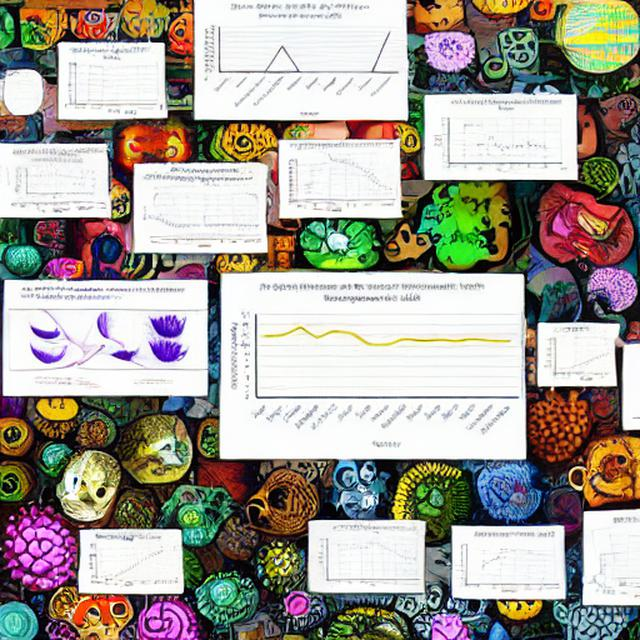Graph: (223, 276, 518, 454), (199, 0, 402, 118), (431, 98, 567, 178), (313, 526, 422, 591), (87, 535, 170, 589), (19, 161, 85, 200)
